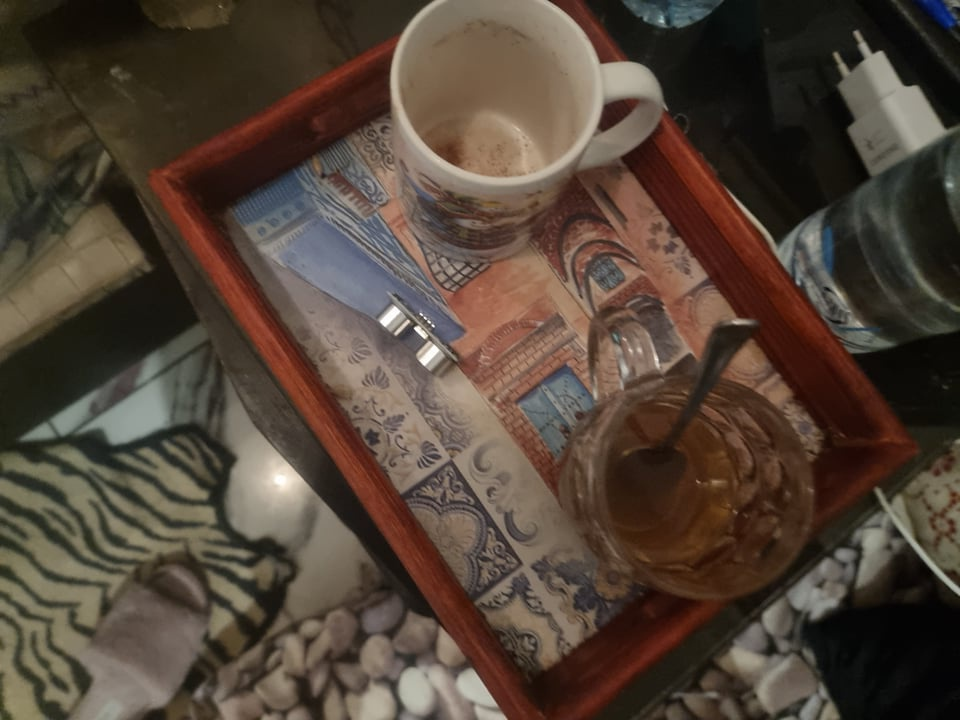SENSOR: (372, 291, 462, 383)
